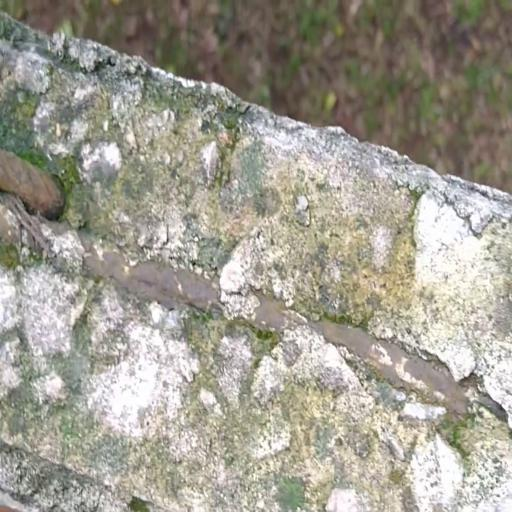spalling: (0, 9, 512, 512)
